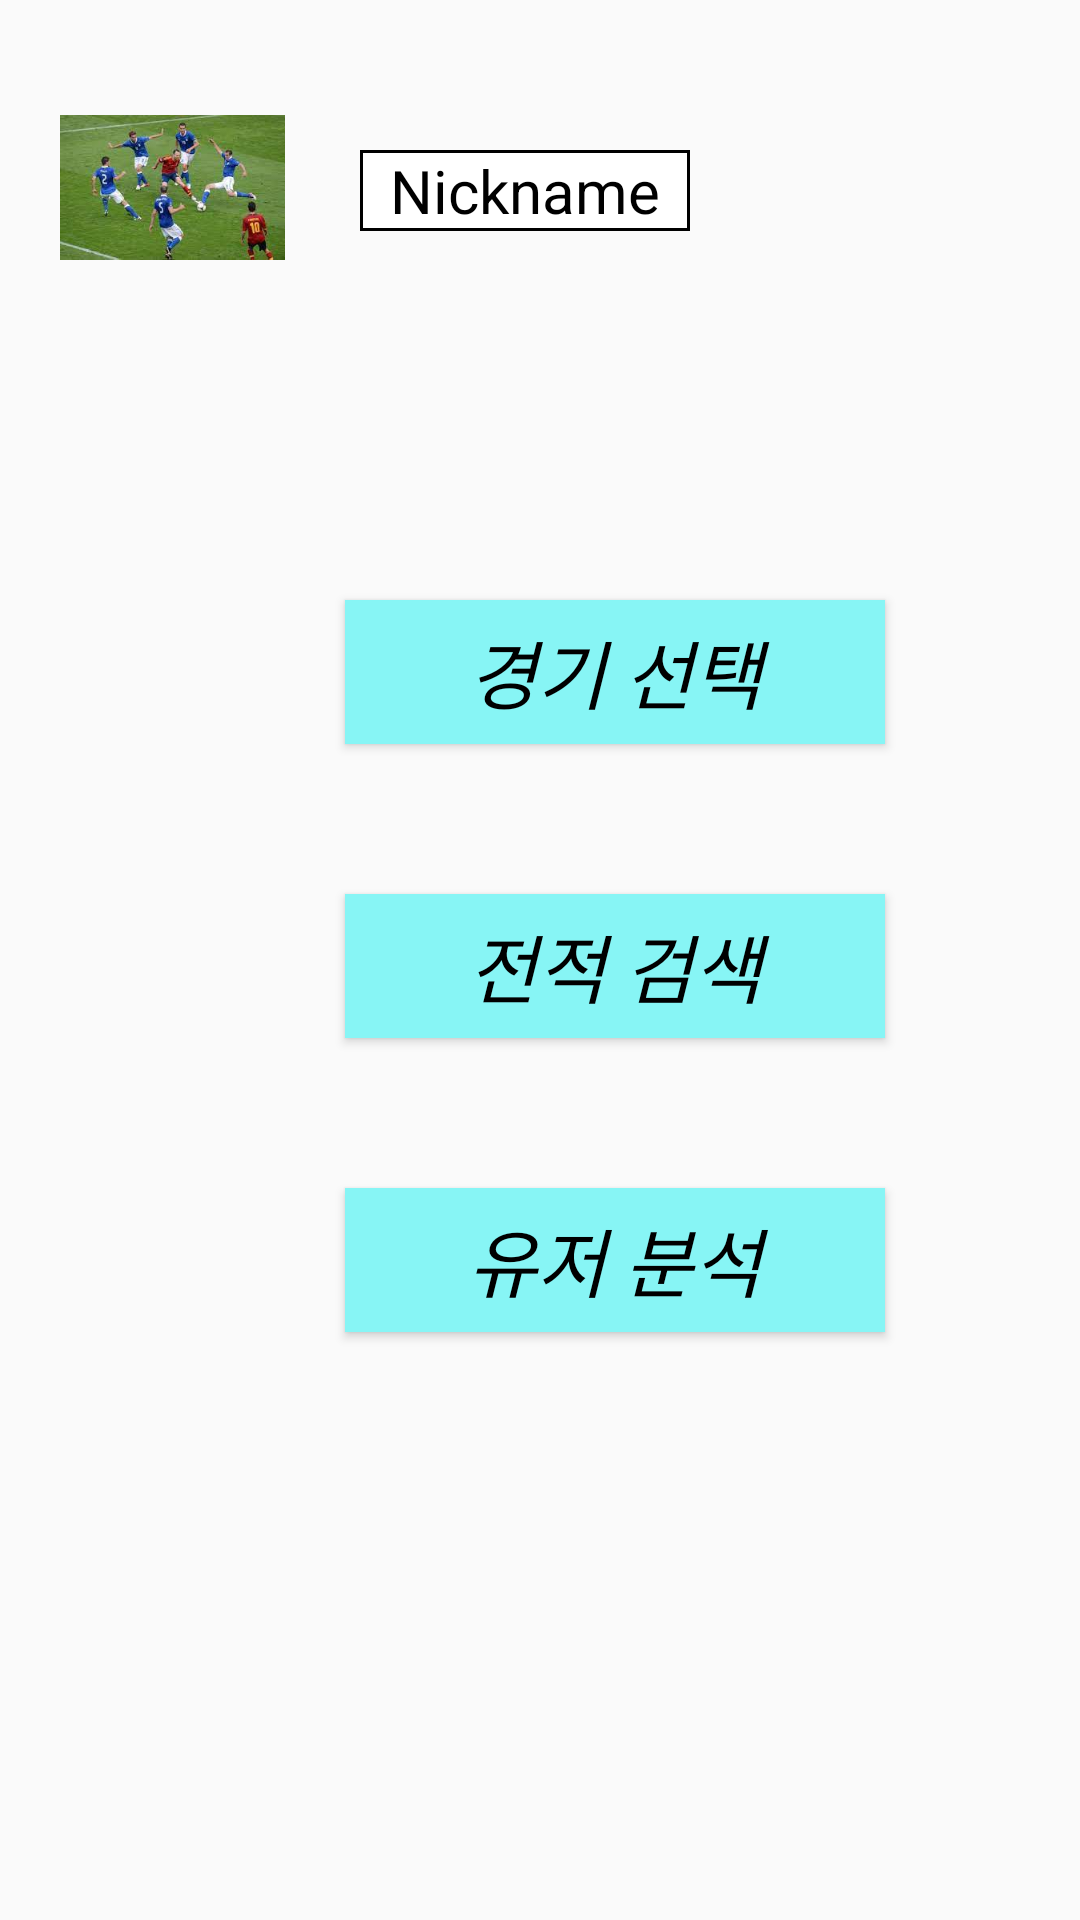

Named icons in this screenshot (1080w x 1920h) and their centers, (x=x, y=y):
soccer highlight: (x=172, y=187)
